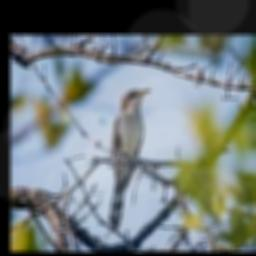Cuckoo: (109, 88, 152, 231)
